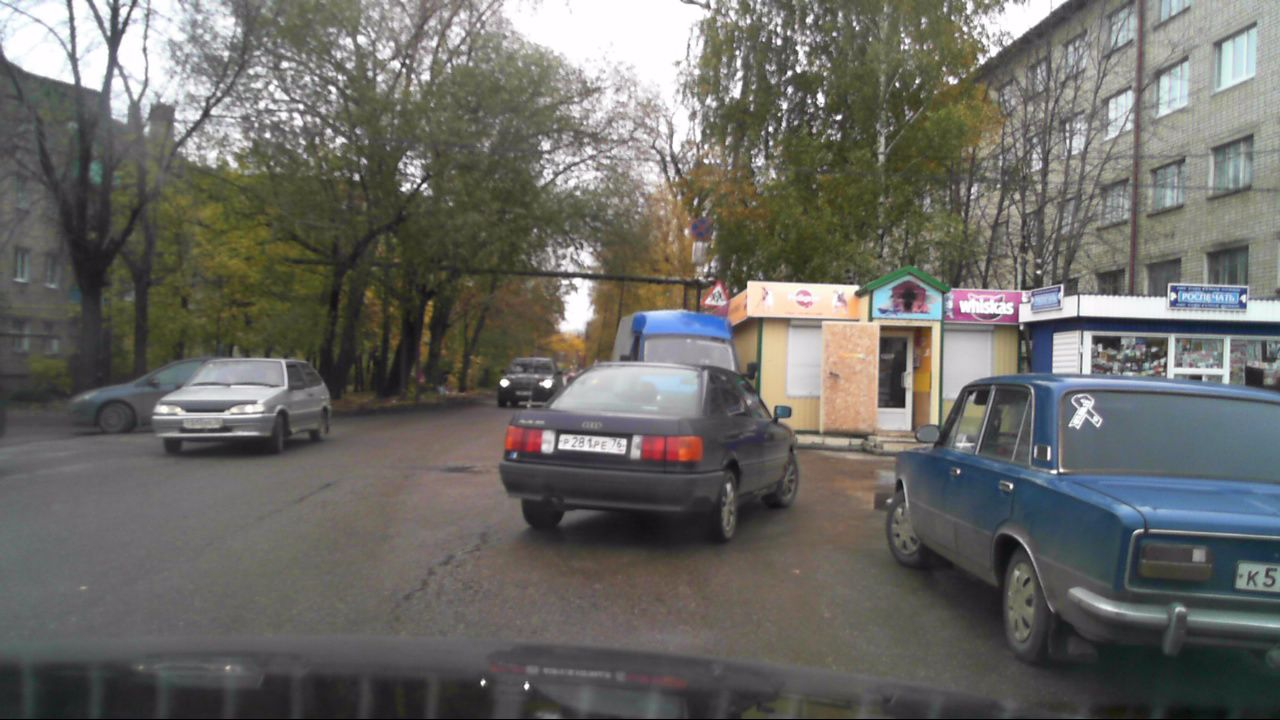No Parking: (688, 218, 712, 243)
